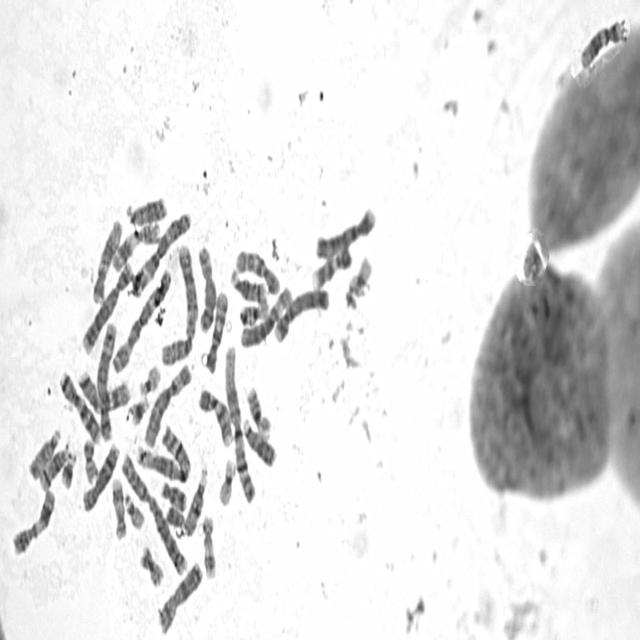A1: (222, 339, 257, 505), (134, 422, 191, 483)
A2: (119, 448, 188, 578), (158, 236, 200, 368)
A3: (110, 261, 172, 375), (128, 205, 193, 297)
B4: (313, 200, 378, 261), (272, 282, 331, 345)
B5: (80, 254, 135, 356), (95, 316, 118, 442)
C10: (234, 244, 282, 296), (203, 285, 230, 376)
C11: (9, 483, 57, 557), (109, 215, 161, 273)
C12: (90, 212, 124, 305), (578, 14, 625, 71)
C6: (142, 356, 194, 450), (238, 280, 293, 350)
C7: (58, 364, 102, 444), (76, 365, 132, 414)
C8: (80, 437, 121, 514), (194, 241, 217, 335)
C9: (197, 381, 236, 449), (310, 240, 354, 290)
D13: (240, 411, 278, 470), (124, 191, 168, 227)
D14: (38, 438, 72, 492), (229, 264, 268, 303)
D15: (182, 460, 210, 539), (27, 423, 62, 481)
E16: (244, 380, 273, 437), (240, 293, 270, 327)
E17: (200, 509, 218, 581), (110, 472, 127, 542)
E18: (524, 240, 547, 286), (159, 476, 187, 512)
F19: (345, 251, 373, 302), (216, 452, 238, 508)
F20: (138, 541, 165, 588), (81, 433, 99, 484)
G21: (59, 444, 78, 490), (128, 391, 150, 427)
G22: (122, 487, 146, 531), (137, 358, 162, 397)
X: (157, 556, 204, 635)
Y: (164, 500, 185, 530)
